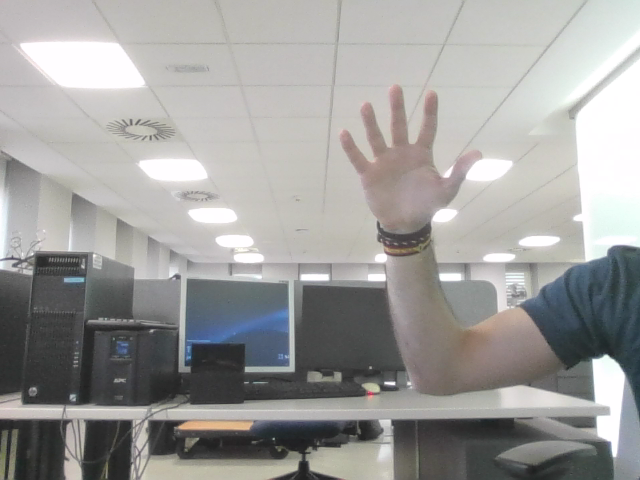Mano Abierta: (351, 96, 468, 202)
